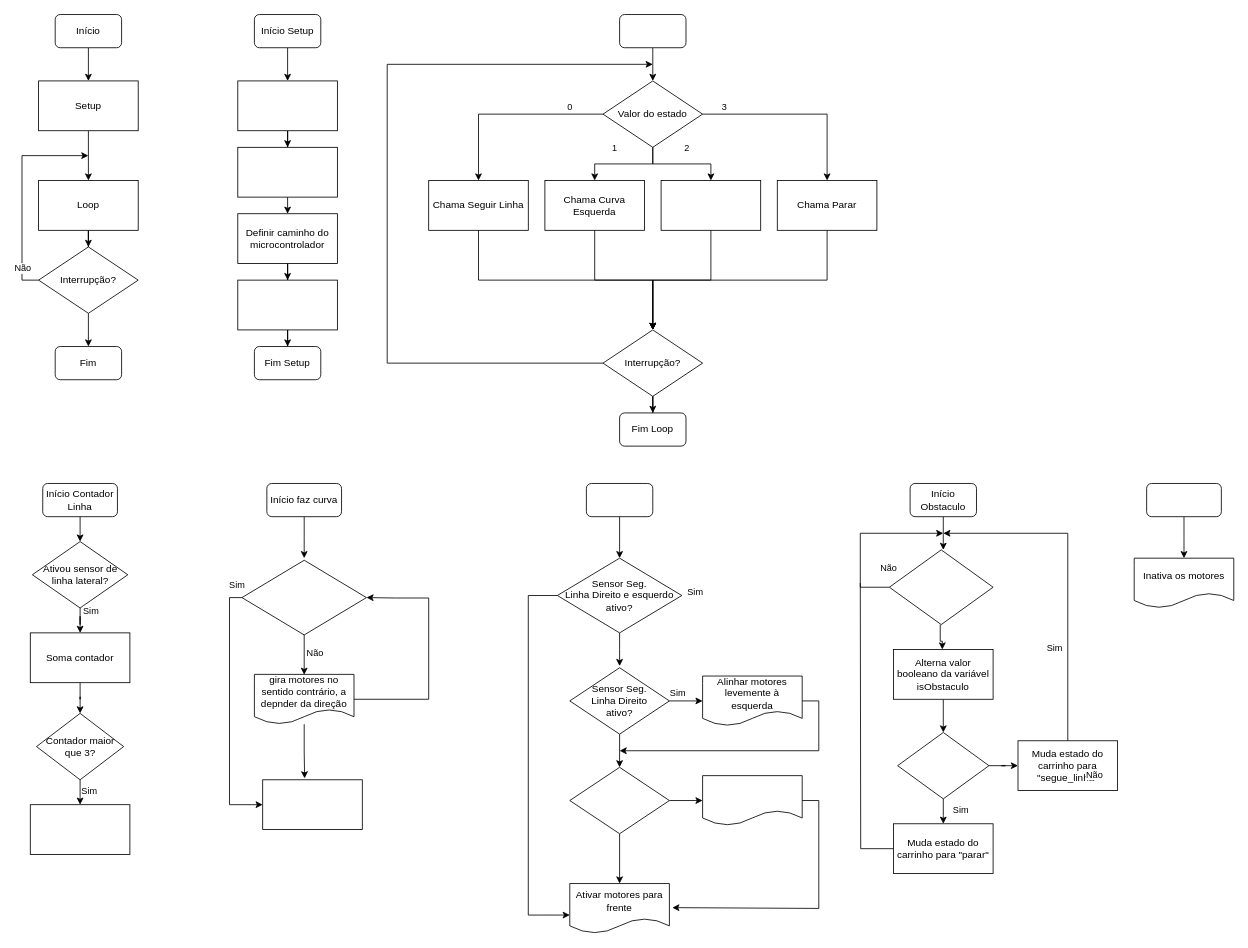
Some shapes in this 1248 by 948 pixel diagram are drawn without their labels. Here are the shapes that lost their labels. From the top down, the centre of each, then its label:
pixel 652 31: Início Loop
pixel 287 105: Definir pinos de input e output
pixel 287 171: Definir interrupções
pixel 710 205: Chama Curva Direita
pixel 287 304: Definir constantes (número de obstáculos, tempo de espera)
pixel 619 500: Início Seguir Linha
pixel 1183 500: Início Parar
pixel 303 597: Sensor Seg. Linha esquerdo/direito ativo ?
pixel 941 587: Mudou estado do sensor frontal?
pixel 943 765: isObstaculo verdadeiro?
pixel 312 804: Muda estado do carrinho para "segue linha"
pixel 619 800: Sensor Seg. Linha Esquerdo ativo?
pixel 752 800: Alinhar motores levemente à direita
pixel 79 829: Muda estado do carrinho para "curva"
